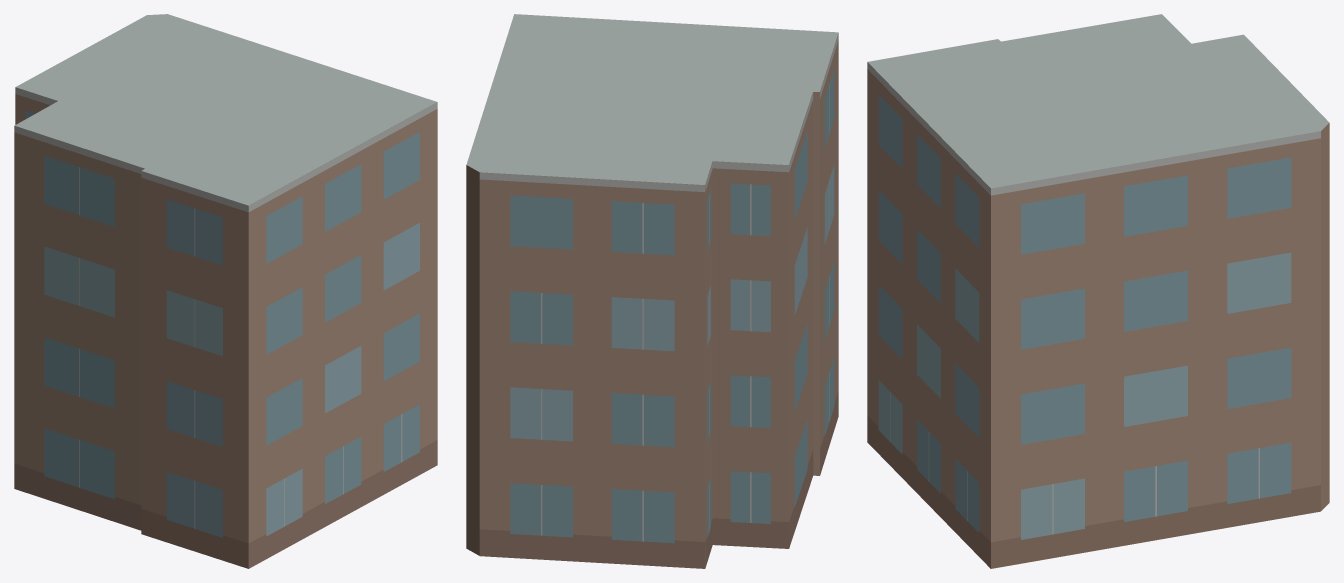
The model's file is survey-upis-33044721.glb.
3 views of the same model, side by side, from view 1: azimuth 30°, elevation 25°; view 2: azimuth 150°, elevation 25°; view 3: azimuth 270°, elevation 25° (orthographic). The views are drawn at different scales.
Parts seen in each view (by area): view 1: survey-upis-33044721.tmp; view 2: survey-upis-33044721.tmp; view 3: survey-upis-33044721.tmp.
Boxes of the visible parts, x1,y1,x2,y2 form: survey-upis-33044721.tmp: [14, 14, 437, 568]; survey-upis-33044721.tmp: [466, 14, 838, 568]; survey-upis-33044721.tmp: [867, 14, 1329, 568].
Bounding box in the file's own units: 12.96 × 13.16 × 14.5.
